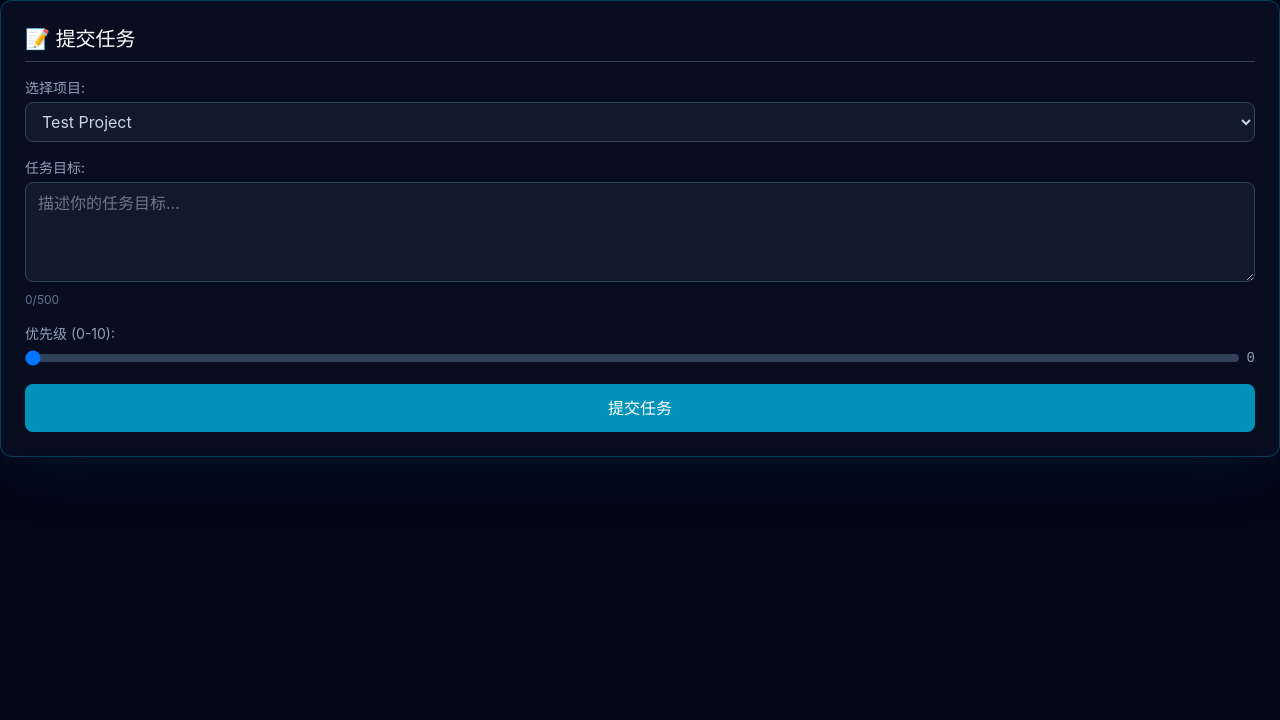
Test: TaskSubmitPanel › validates required fields
Note: Click submit without entering objective
Step 1. Click the button "提交任务" → coordinates (640, 408), box [25,384,1255,432]
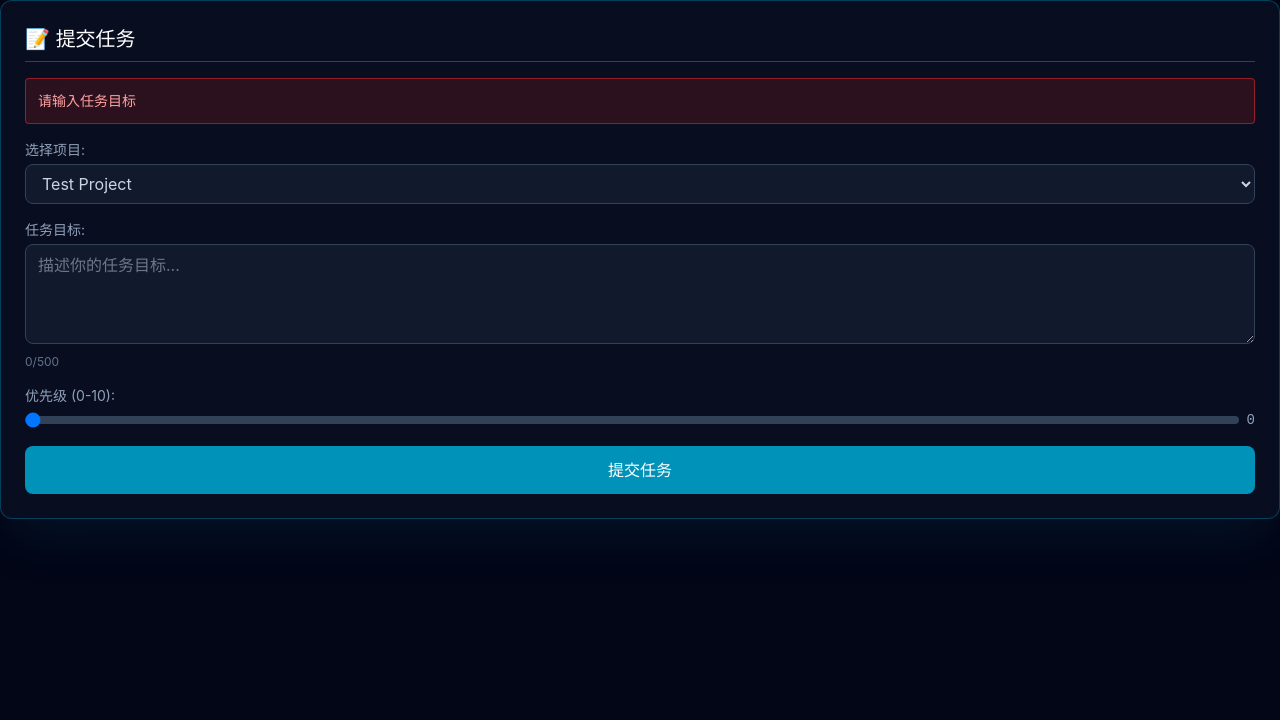
Now the text "请输入任务目标" is shown, box [25,78,1255,124]
